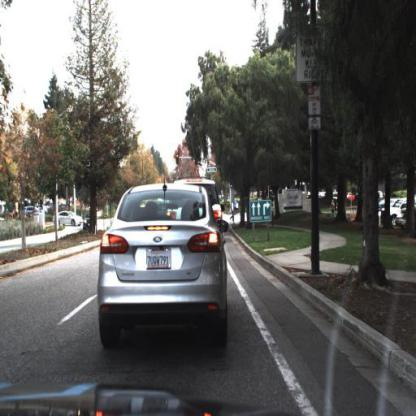car: (99, 188, 230, 346), (384, 194, 404, 225), (206, 181, 220, 225), (53, 212, 82, 227), (84, 216, 98, 230)
pedestrian: (229, 200, 235, 225), (332, 200, 337, 217)
trafficLight: (177, 153, 181, 165)
